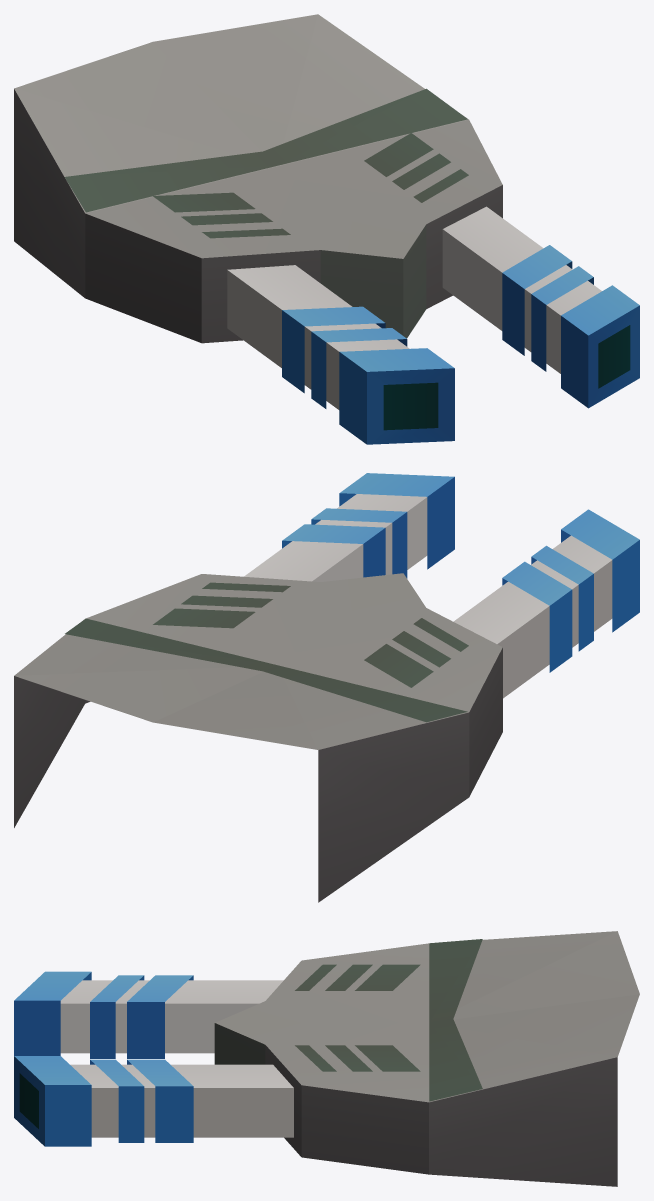
File: Fortress_01_gun_02.fbx
The picture shows the model from 3 angles, top to bottom: view 1: azimuth 30°, elevation 25°; view 2: azimuth 150°, elevation 25°; view 3: azimuth 270°, elevation 25°; orthographic projection. The views are drawn at different scales.
Parts seen in each view (by area): view 1: Fortress_01_gun_02; view 2: Fortress_01_gun_02; view 3: Fortress_01_gun_02.
Boxes of the visible parts, x1,y1,x2,y2 form: Fortress_01_gun_02: [14, 14, 639, 444]; Fortress_01_gun_02: [14, 473, 639, 902]; Fortress_01_gun_02: [14, 931, 639, 1186].
Size of the model in its own units: 41.5 by 15.78 by 69.
